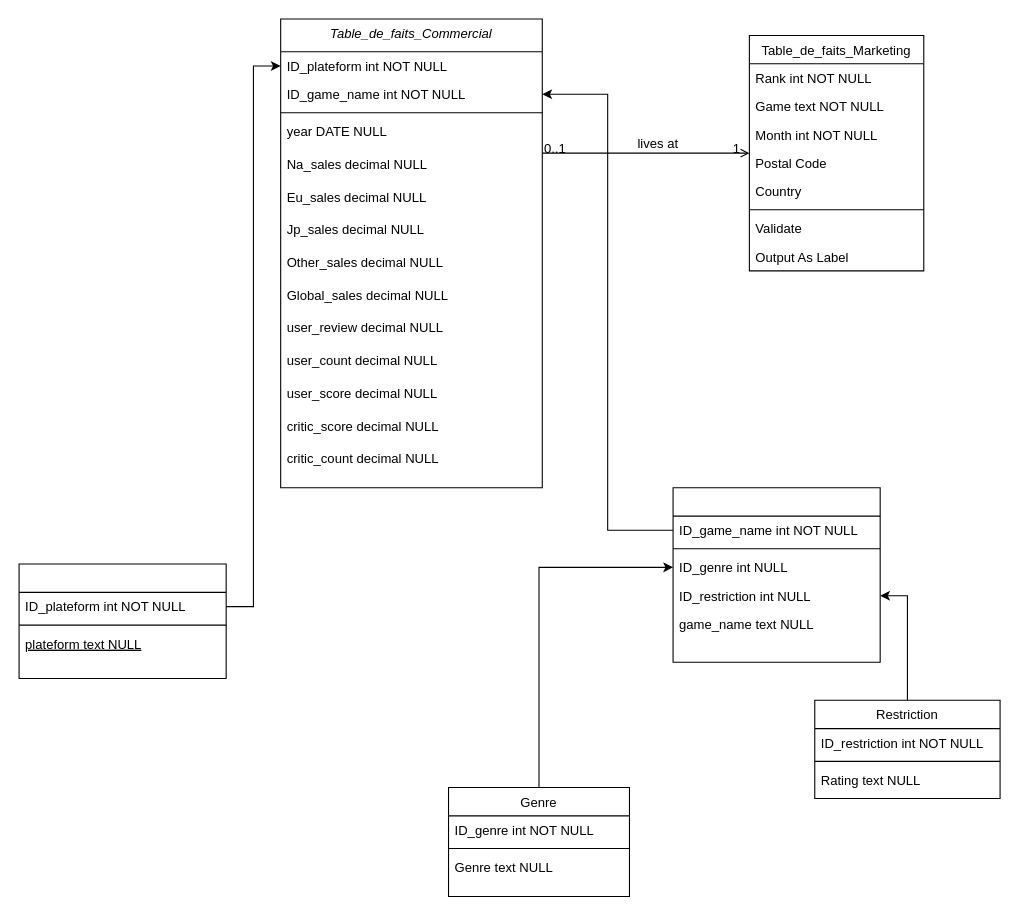
The diagram is 1019 pixels wide and 916 high, and some of its shapes have lost their labels. The box of each missing label's shape, as (x1, y1, x2, y2) in pixels:
Games: (672, 487, 880, 662)
Platform: (18, 563, 226, 679)
